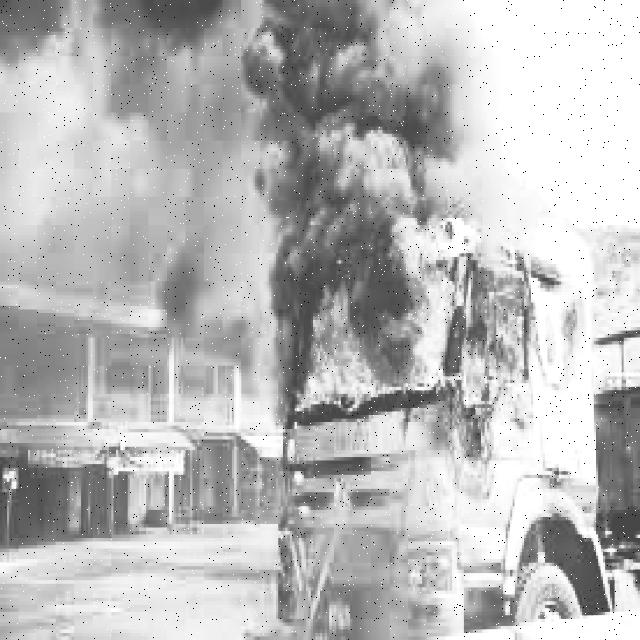api: (272, 212, 458, 409), (458, 258, 537, 395)
